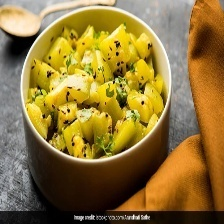sabzi: (21, 16, 168, 165)
